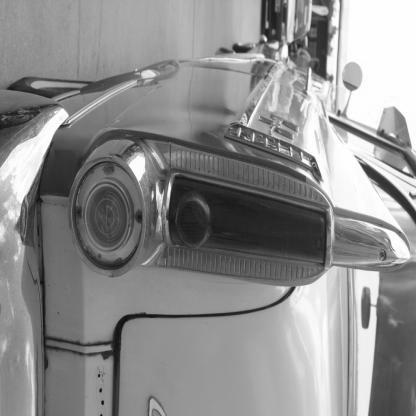car: (1, 42, 416, 416)
